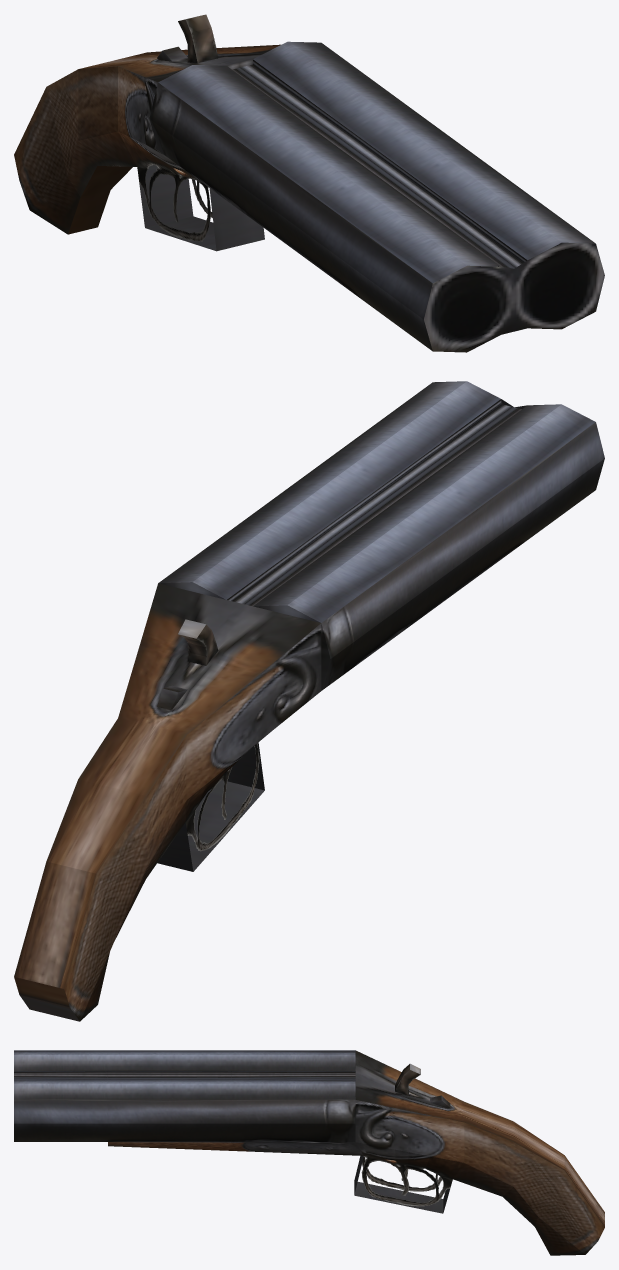
The model's file is double_barrel_shotgun.fbx.
3 renders of one model, top to bottom at view 1: azimuth 30°, elevation 25°; view 2: azimuth 150°, elevation 25°; view 3: azimuth 270°, elevation 25°, orthographic. The views are drawn at different scales.
Parts seen in each view (by area): view 1: Cube; view 2: Cube; view 3: Cube.
Part boxes in pixels (bbox=[...]): Cube: bbox=[14, 14, 604, 352]; Cube: bbox=[14, 381, 604, 1021]; Cube: bbox=[14, 1050, 604, 1255].
Size of the model in its own units: 2326 by 512 by 801.
